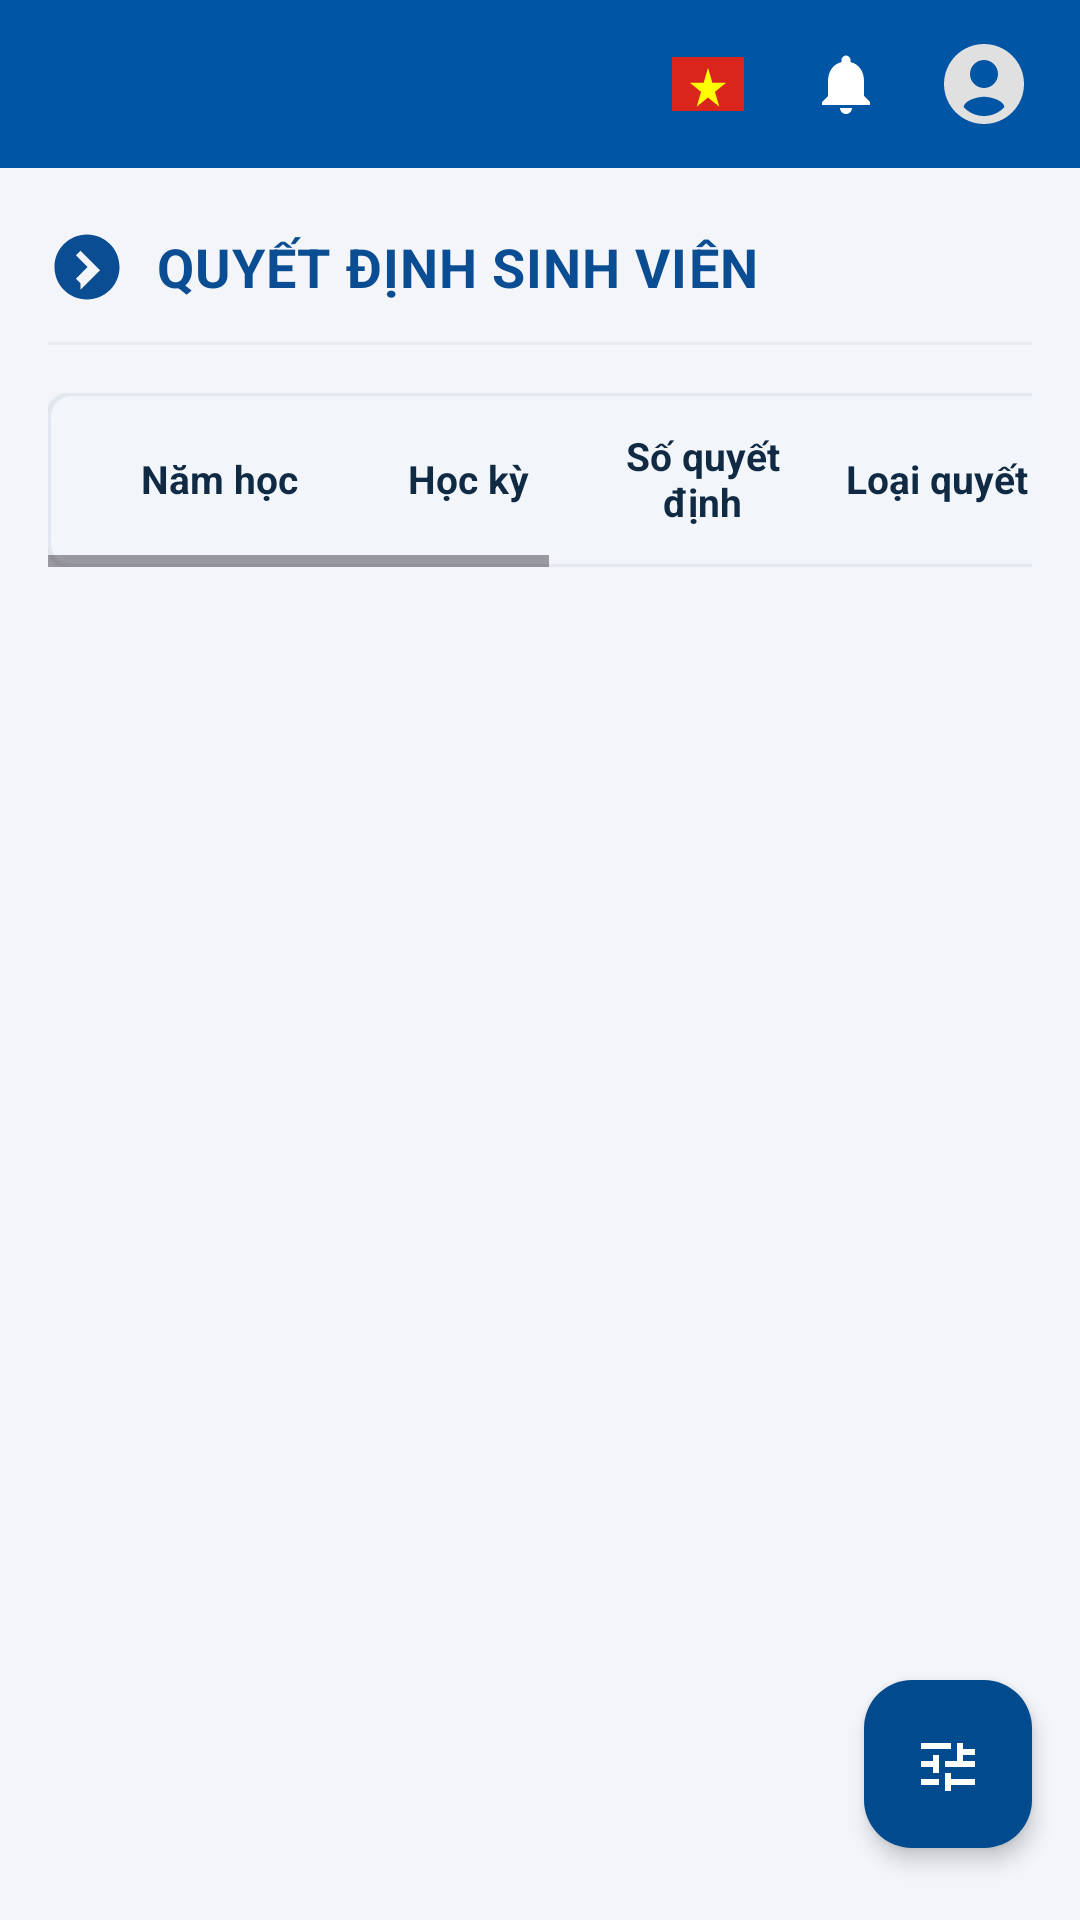

Screen size 1080×1920. Icon name, then its center in pixels as point (x, y):
account: point (984, 84)
arrow circle right: point (87, 267)
bell: point (846, 84)
flag vn: point (708, 84)
tune fab: point (948, 1764)
